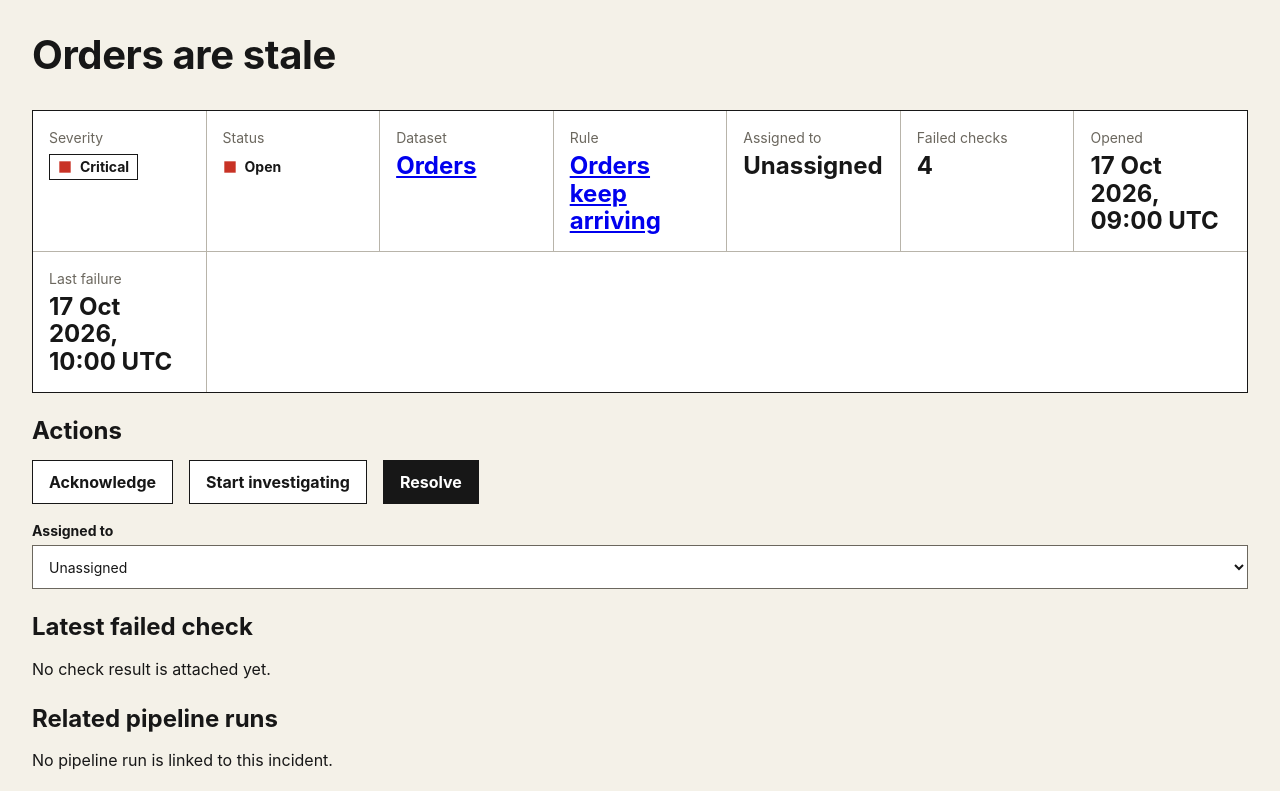
Test: Incident actions › shows the problem and reloads on a changed incident
This screenshot has width=1280, height=791.
Click the button "Acknowledge": (102, 482) [32,460,173,504]
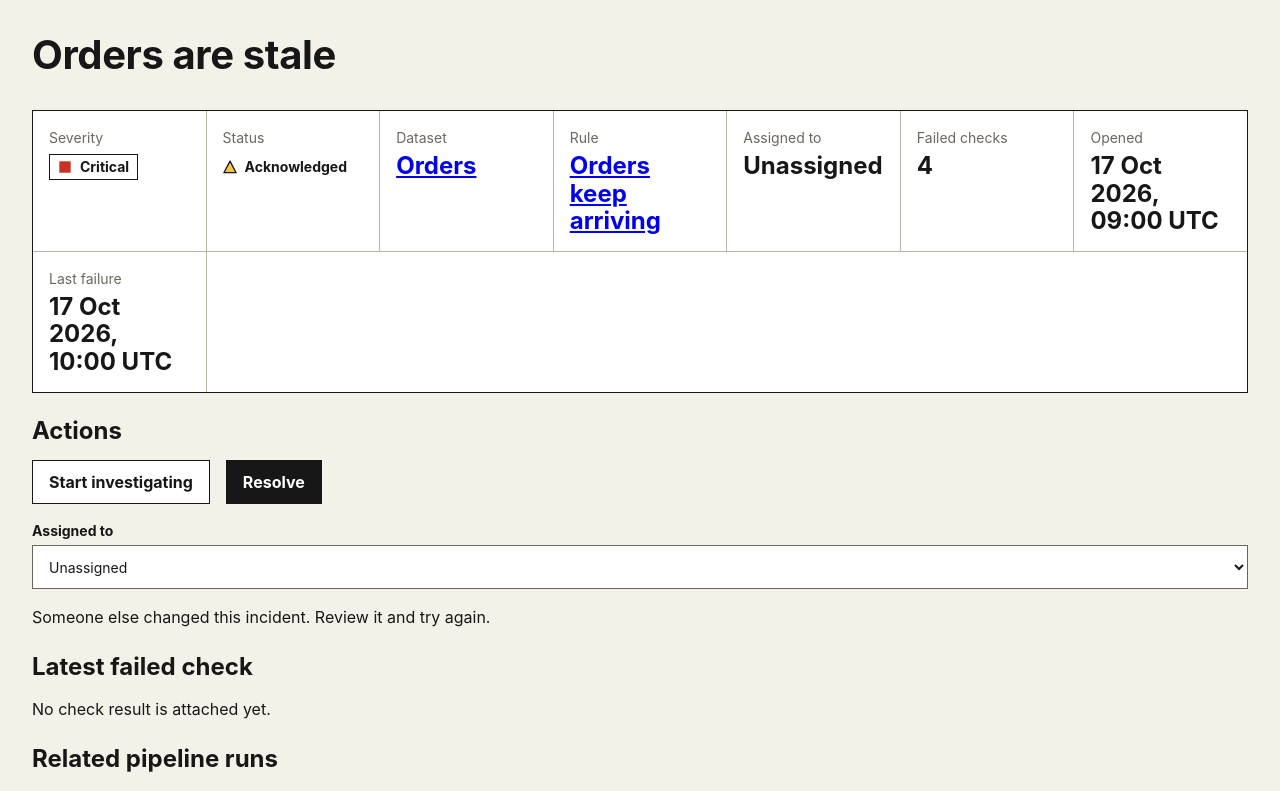
Result: the message shows "Someone else changed this" at [32,607,490,627]
